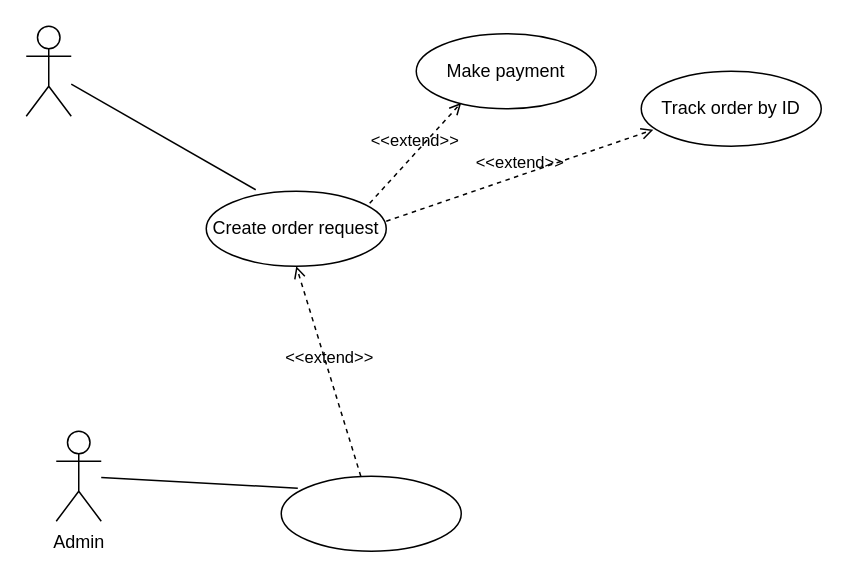
This 848x579 diagram has some shape labels left out. Each missing label, with the box of its shape:
Send Order: (280, 475, 461, 551)
User: (25, 25, 71, 116)
